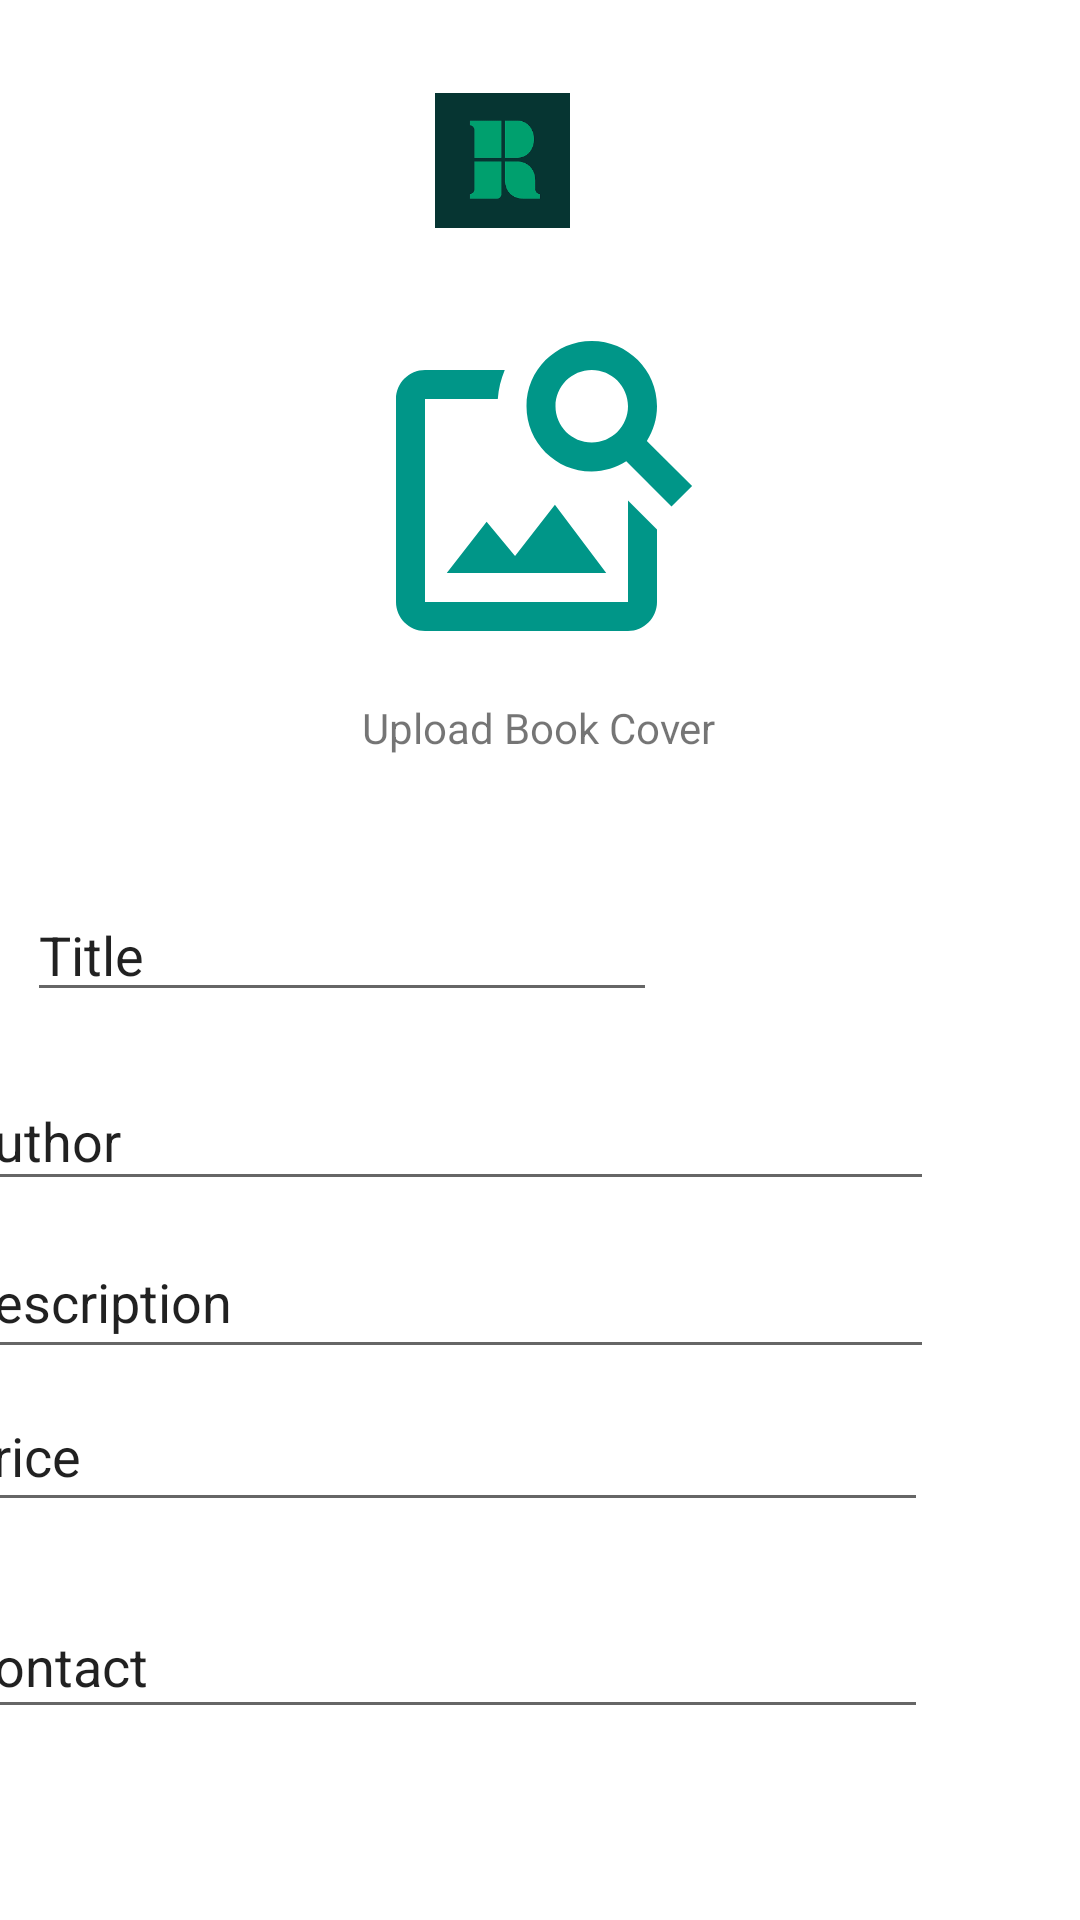

Screen size 1080 × 1920. Icon name, then its center in pixels as (x=x, y=y):
search: (x=544, y=486)
